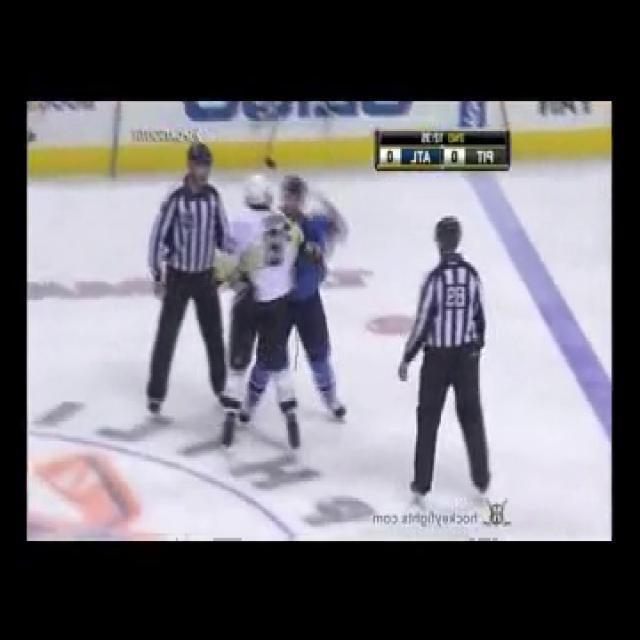non-violence: (399, 212, 500, 507), (143, 147, 244, 414)
violence: (218, 176, 350, 453)
